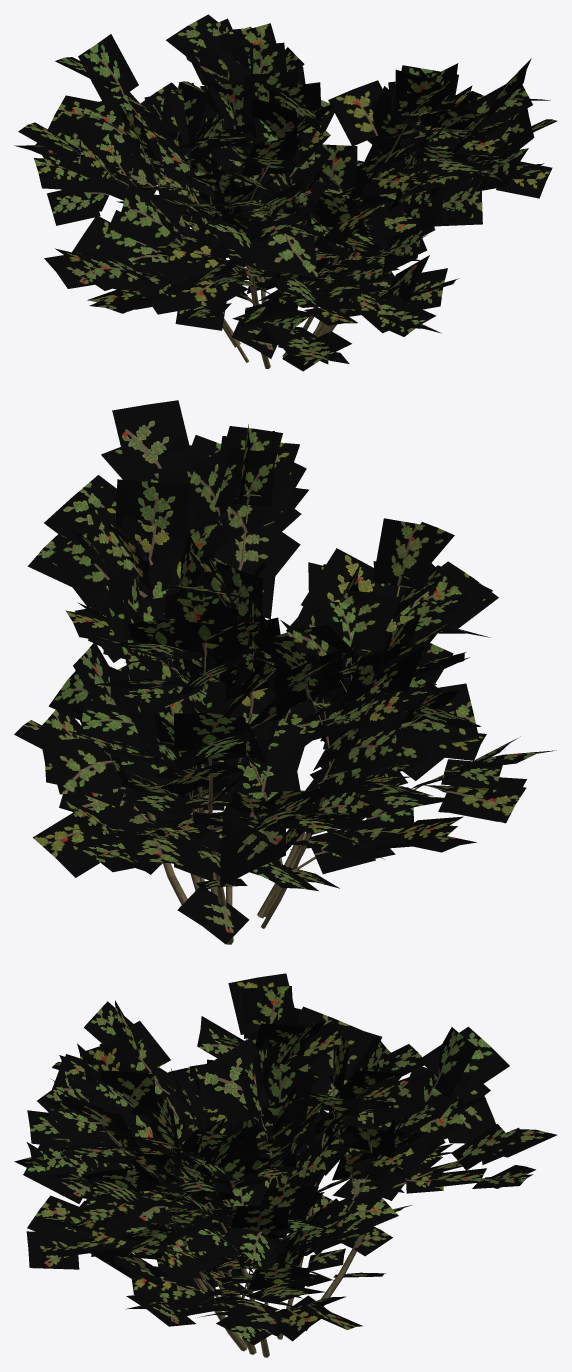
File: sipek_3.glb
3 renders of one model, top to bottom at view 1: azimuth 30°, elevation 25°; view 2: azimuth 150°, elevation 25°; view 3: azimuth 270°, elevation 25°, orthographic. The views are drawn at different scales.
Visible parts, largest first — view 1: sipek_3; view 2: sipek_3; view 3: sipek_3.
Boxes of the visible parts, x1=… form: sipek_3: x1=14, y1=14, x2=557, y2=371; sipek_3: x1=14, y1=400, x2=556, y2=944; sipek_3: x1=14, y1=973, x2=557, y2=1357.
Bounding box in the file's own units: 3.68 × 2.65 × 3.98.
Materials: 2 (2 with a texture image).
